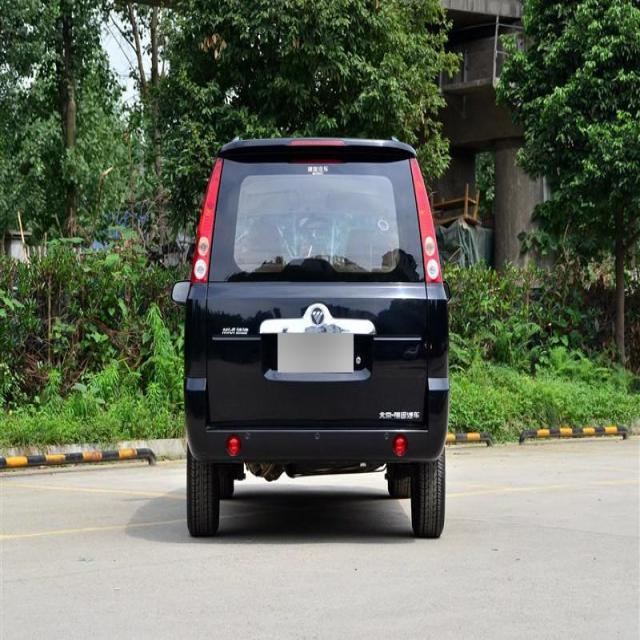back_glass: (208, 148, 426, 284)
back_left_side_light: (190, 152, 224, 286)
back_right_side_light: (409, 154, 444, 284)
front_left_side_mirror: (172, 278, 190, 307)
rear_bumper: (182, 375, 450, 464)
wheel: (410, 449, 448, 538), (186, 445, 220, 536)
